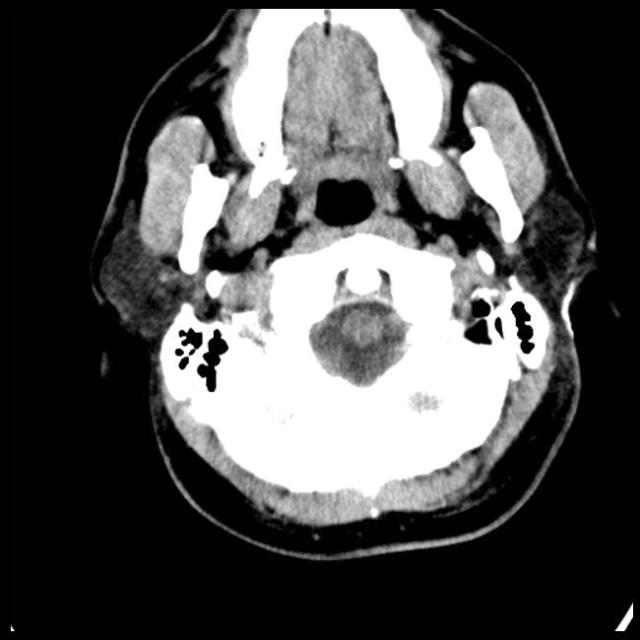lesion: (89, 7, 600, 557)
